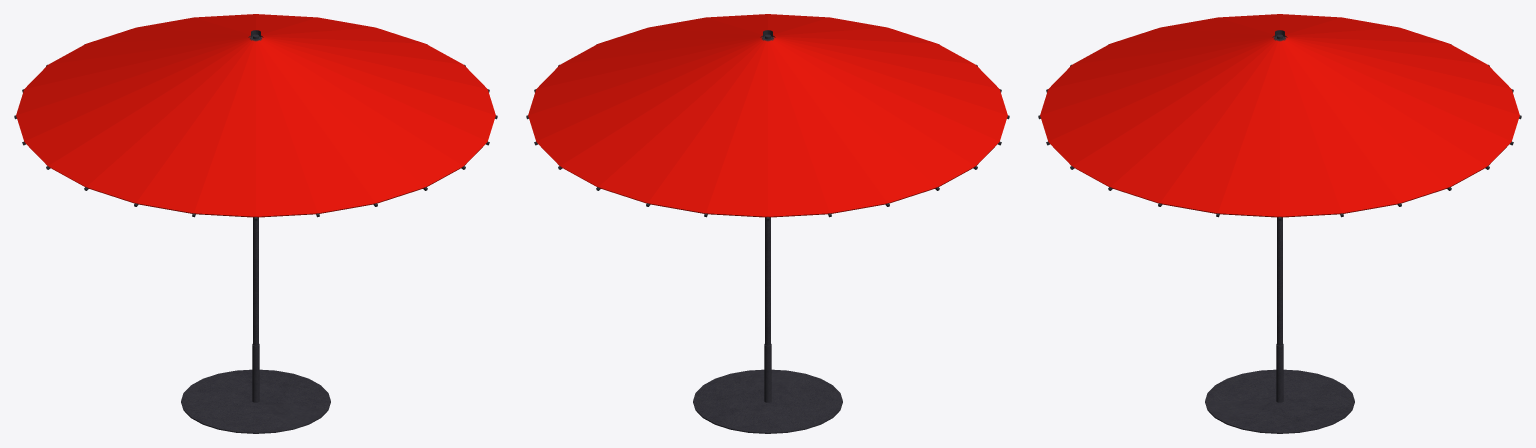
File: Umbrella.fbx
The picture shows the model from 3 angles, left to right: view 1: azimuth 30°, elevation 25°; view 2: azimuth 150°, elevation 25°; view 3: azimuth 270°, elevation 25°; orthographic projection.
Parts seen in each view (by area): view 1: Japanese umbrella; view 2: Japanese umbrella; view 3: Japanese umbrella.
Part boxes in pixels (<box>): Japanese umbrella: <box>14,14,497,433</box>; Japanese umbrella: <box>526,14,1009,433</box>; Japanese umbrella: <box>1038,14,1521,433</box>.
Bounding box in the file's own units: 1268 × 1070 × 1268.
Materials: 2 (1 with a texture image).
